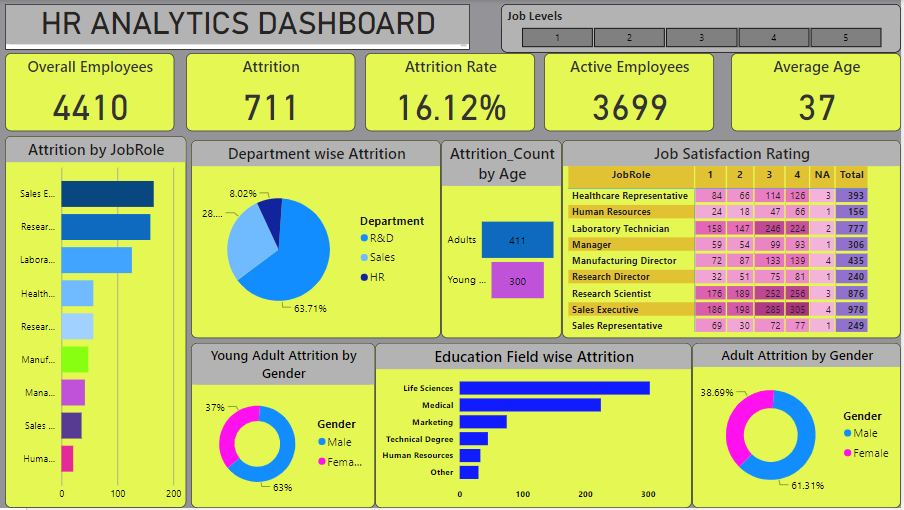

What the dashboard file says about the page in this screenshot:
{"tool":"powerbi","page":{"name":"Page 1","canvas":[1280,720],"ordinal":0},"visuals":[{"type":"card","title":"Overall Employees","fields":{"Values":["Sum(Attrition data.EmployeeCount)"]},"box":[9.9,75.1,239.5,110.6],"z":0},{"type":"card","title":"Attrition","fields":{"Values":["Sum(Attrition data.Attrition_Count)"]},"box":[266.5,75.1,239.5,110.6],"z":1000},{"type":"card","title":"Attrition Rate","fields":{"Values":["Attrition data.Attrition_Rate"]},"box":[520.2,75.1,240.9,110.6],"z":2000},{"type":"card","title":"Active Employees","fields":{"Values":["Attrition data.Active_Employee"]},"box":[773.9,75.1,240.9,110.6],"z":3000},{"type":"card","title":"Average Age","fields":{"Values":["Avg(Attrition data.Age)"]},"box":[1038.9,75.1,240.9,110.6],"z":4000},{"type":"pieChart","title":"Department wise Attrition","fields":{"Category":["Attrition data.Department"],"Y":["Sum(Attrition data.Attrition_Count)"]},"box":[273.5,198.4,354.3,280.6],"z":5000},{"type":"pivotTable","title":"Job Satisfaction Rating","fields":{"Rows":["Attrition data.JobRole"],"Columns":["Attrition data.JobSatisfaction"],"Values":["Sum(Attrition data.EmployeeCount)"]},"box":[799.4,198.4,480.5,280.6],"z":6000},{"type":"barChart","title":"Education Field wise Attrition","fields":{"Y":["Sum(Attrition data.Attrition_Count)"],"Category":["Attrition data.EducationField"]},"box":[534.3,486.1,449.3,233.9],"z":7000},{"type":"donutChart","title":"Young Adult Attrition by Gender ","fields":{"Category":["Attrition data.Gender"],"Y":["Sum(Attrition data.Attrition_Count)"],"Series":["Attrition data.Age Band"]},"box":[273.5,486.1,260.8,233.9],"z":8000},{"type":"donutChart","title":"Adult Attrition by Gender","fields":{"Category":["Attrition data.Gender"],"Y":["Sum(Attrition data.Attrition_Count)"],"Series":["Attrition data.Age Band"]},"box":[983.6,486.1,296.2,233.9],"z":9000},{"type":"clusteredBarChart","title":"Attrition by JobRole","fields":{"Category":["Attrition data.JobRole"],"Y":["Sum(Attrition data.Attrition_Count)"]},"box":[9.9,192.8,256.5,527.2],"z":10000},{"type":"funnel","title":"Attrition_Count by Age ","fields":{"Y":["Sum(Attrition data.Attrition_Count)"],"Category":["Attrition data.Age Band"]},"box":[627.9,198.4,171.5,280.6],"z":11000},{"type":"textbox","title":"HR ANALYTICS DASHBOARD","box":[9.9,5.7,659.1,65.2],"z":12000},{"type":"slicer","title":"Job Levels","fields":{"Values":["Attrition data.JobLevel"]},"box":[712.9,5.7,566.9,69.4],"z":13000}]}

Visuals, with their boxes in screenshot pixels (x1, y1, x2, y2), scaled from the page's 1280x720 canvas onto the 904x510 screenshot:
"Overall Employees" card: <box>7,53,176,132</box>
"Attrition" card: <box>188,53,357,132</box>
"Attrition Rate" card: <box>367,53,538,132</box>
"Active Employees" card: <box>547,53,717,132</box>
"Average Age" card: <box>734,53,903,132</box>
"Department wise Attrition" pieChart: <box>193,141,443,339</box>
"Job Satisfaction Rating" pivotTable: <box>565,141,903,339</box>
"Education Field wise Attrition" barChart: <box>377,344,695,509</box>
"Young Adult Attrition by Gender " donutChart: <box>193,344,377,509</box>
"Adult Attrition by Gender" donutChart: <box>695,344,903,509</box>
"Attrition by JobRole" clusteredBarChart: <box>7,137,188,509</box>
"Attrition_Count by Age " funnel: <box>443,141,565,339</box>
"HR ANALYTICS DASHBOARD" textbox: <box>7,4,472,50</box>
"Job Levels" slicer: <box>503,4,903,53</box>
